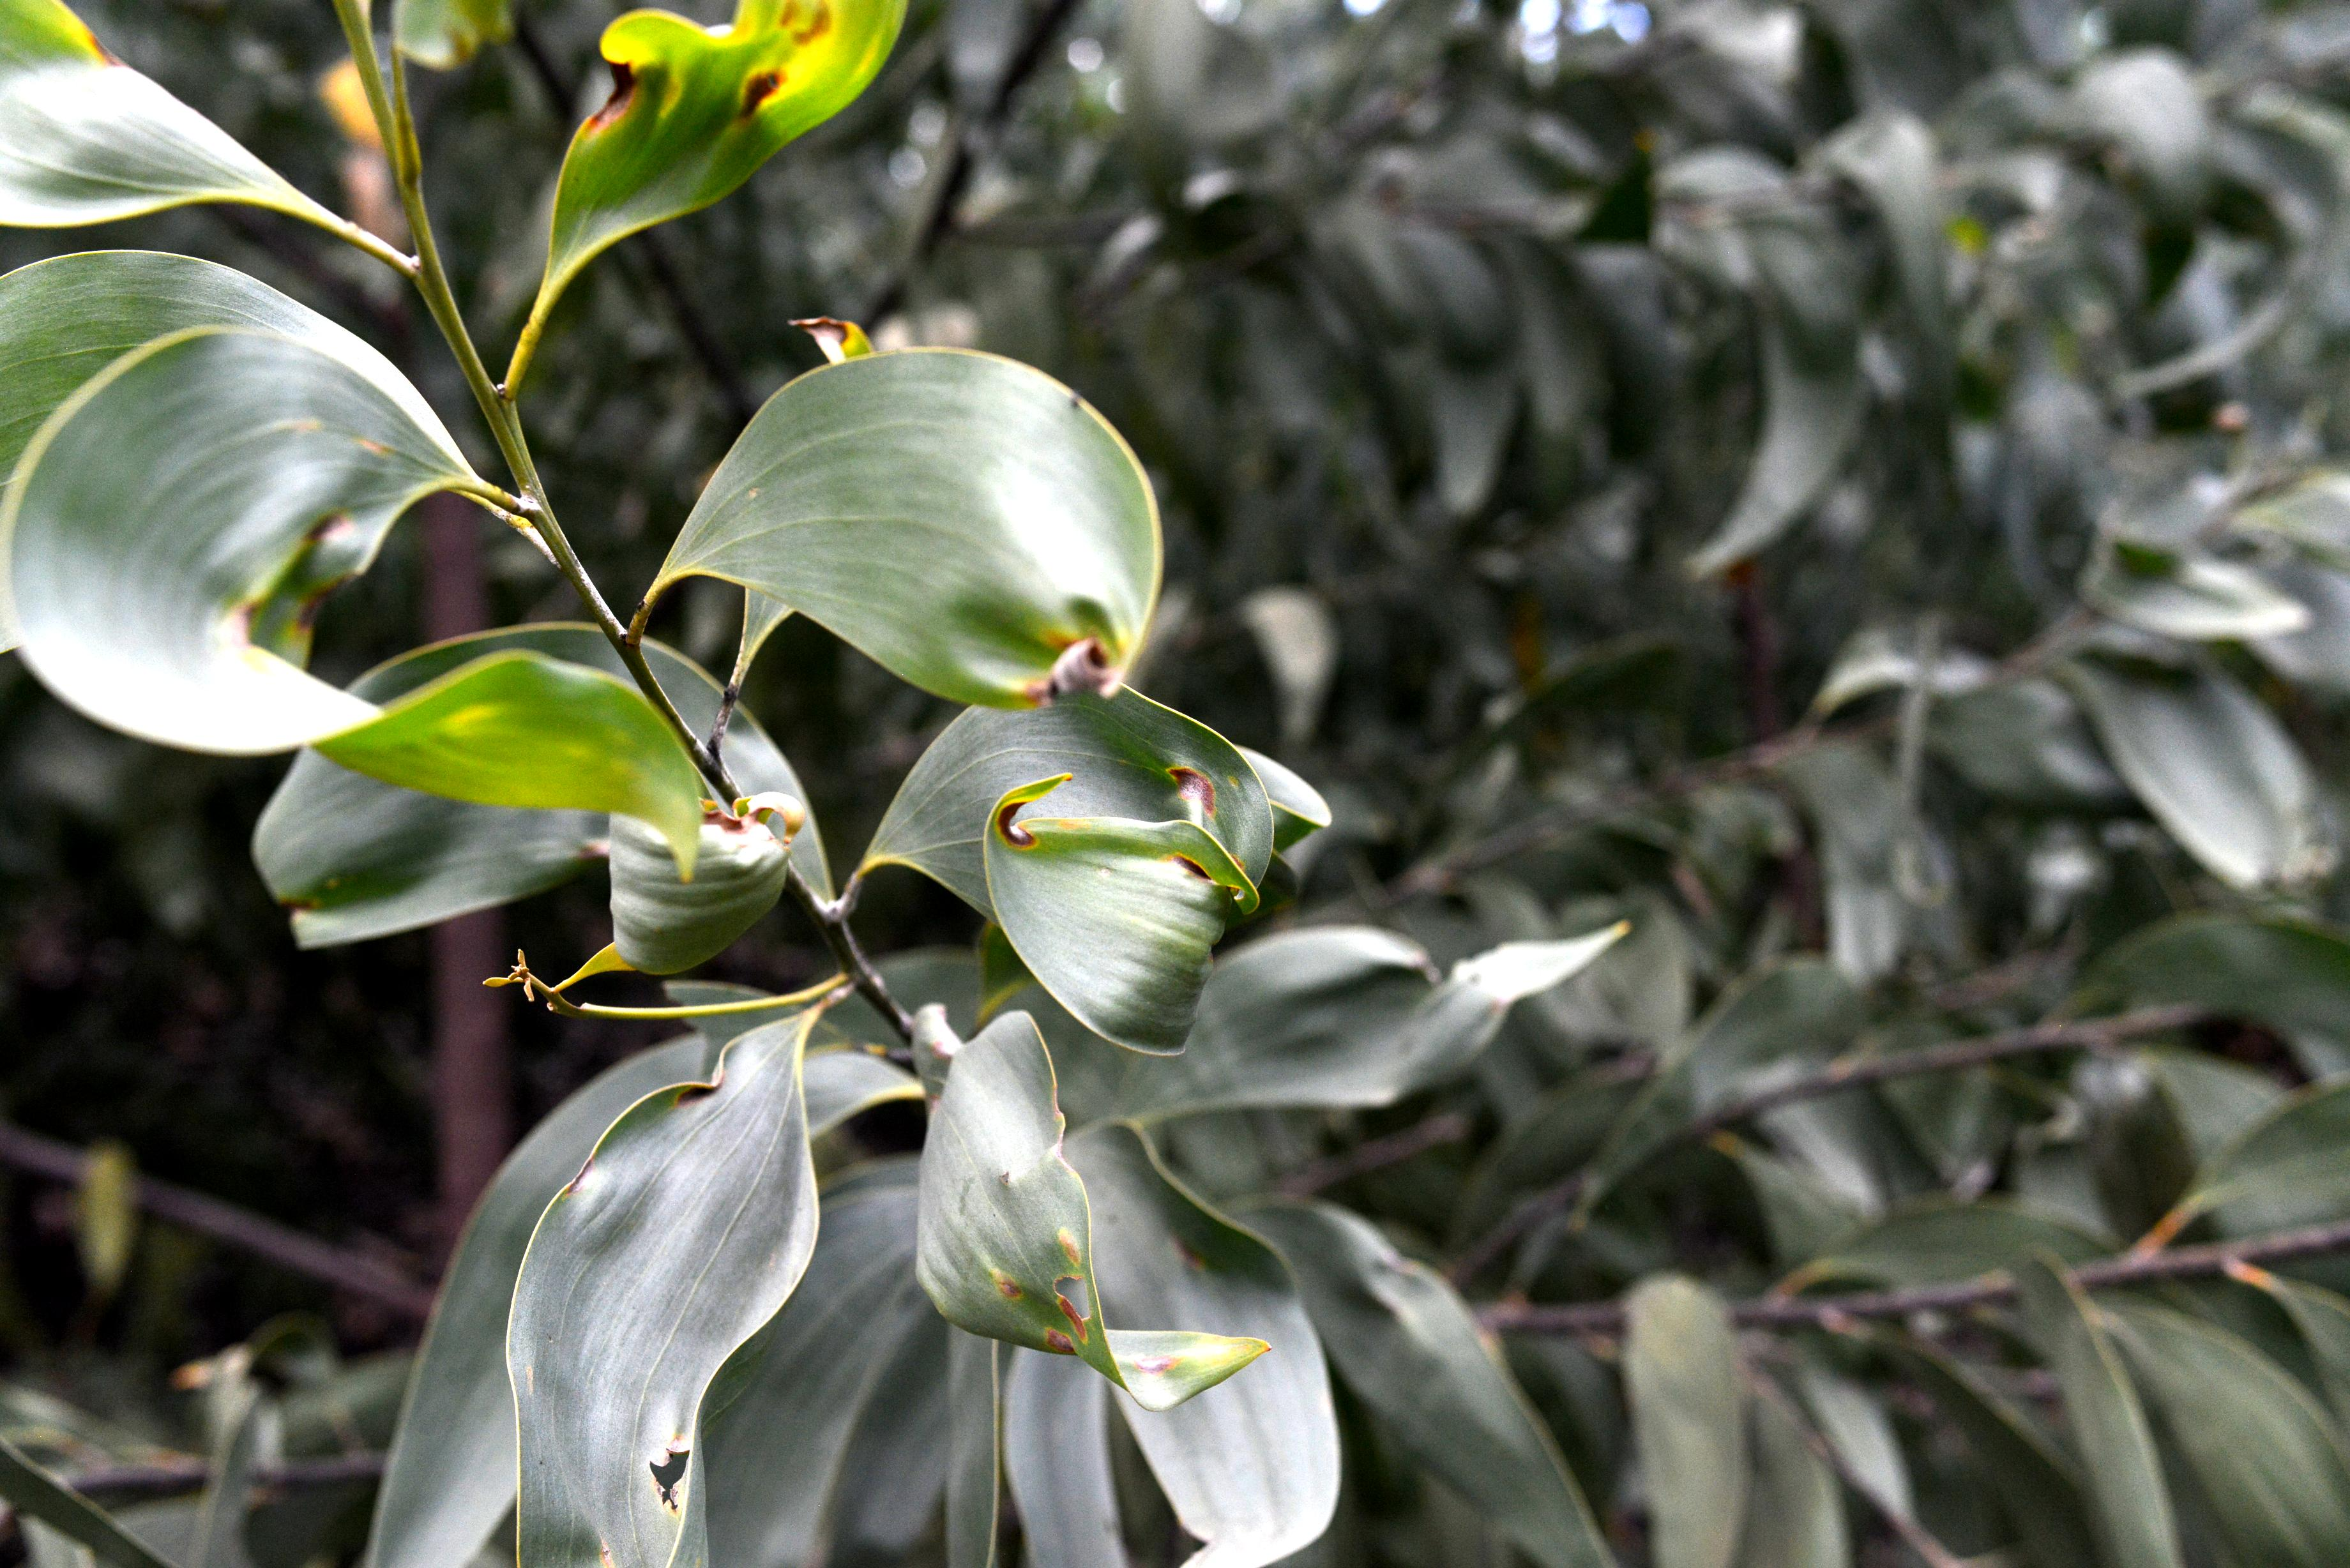Pasalora: (646, 332, 1176, 709), (511, 1022, 840, 1568), (863, 1059, 1265, 1421), (859, 703, 1272, 1048), (523, 0, 929, 292), (320, 674, 726, 878), (579, 787, 807, 1003)
